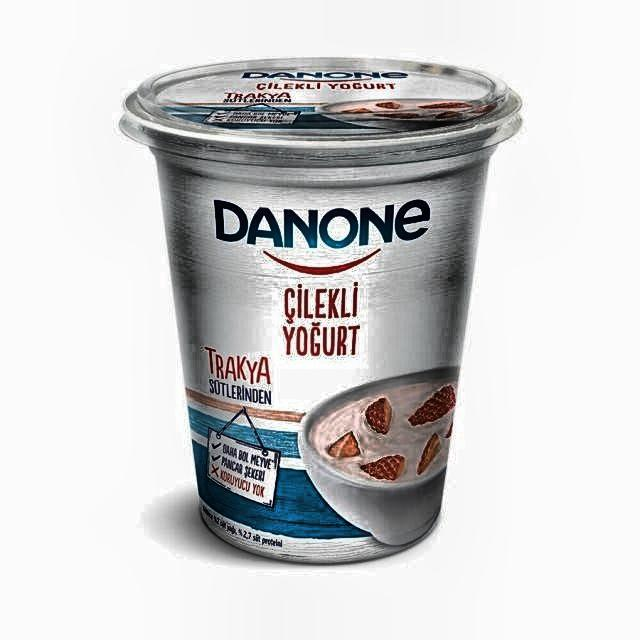plastic: (117, 54, 524, 568)
